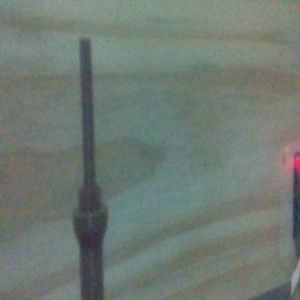obeng: (72, 38, 110, 300)
